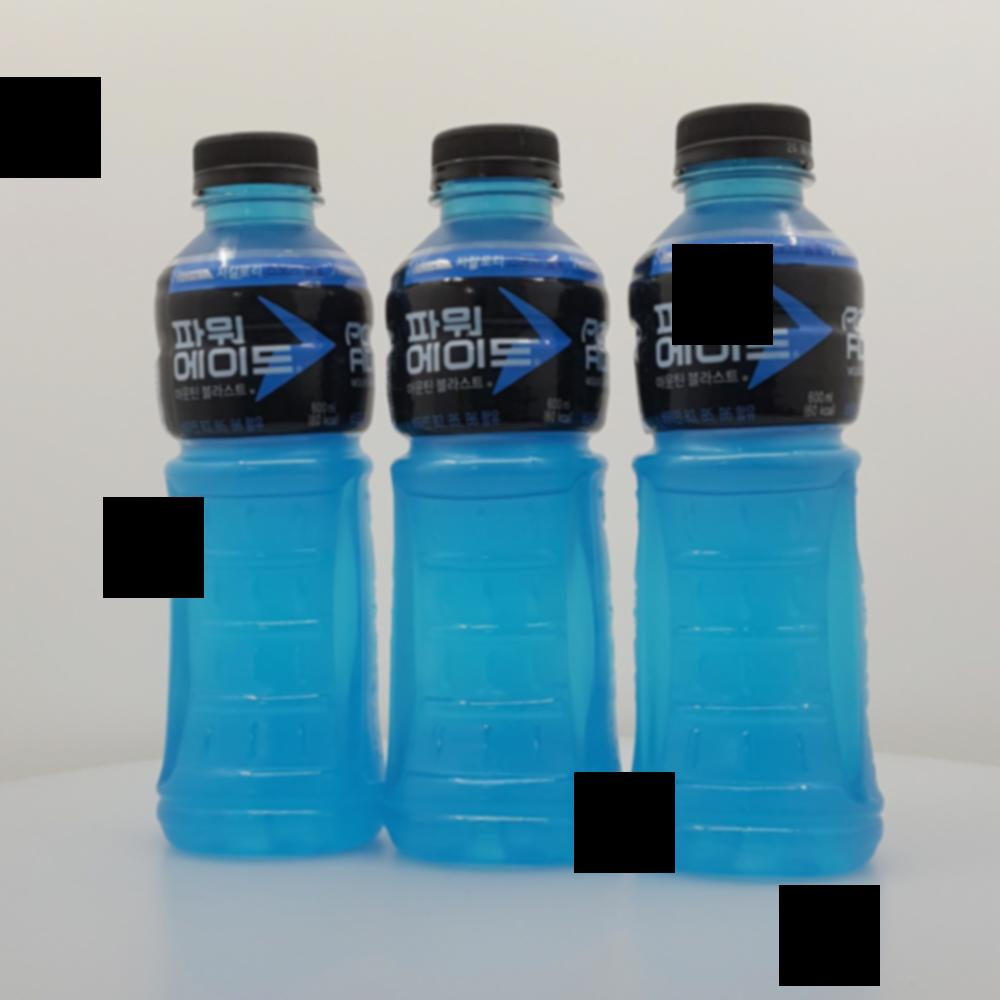powerade_mountainblast: (616, 106, 899, 893), (365, 107, 631, 868), (150, 124, 386, 864)
